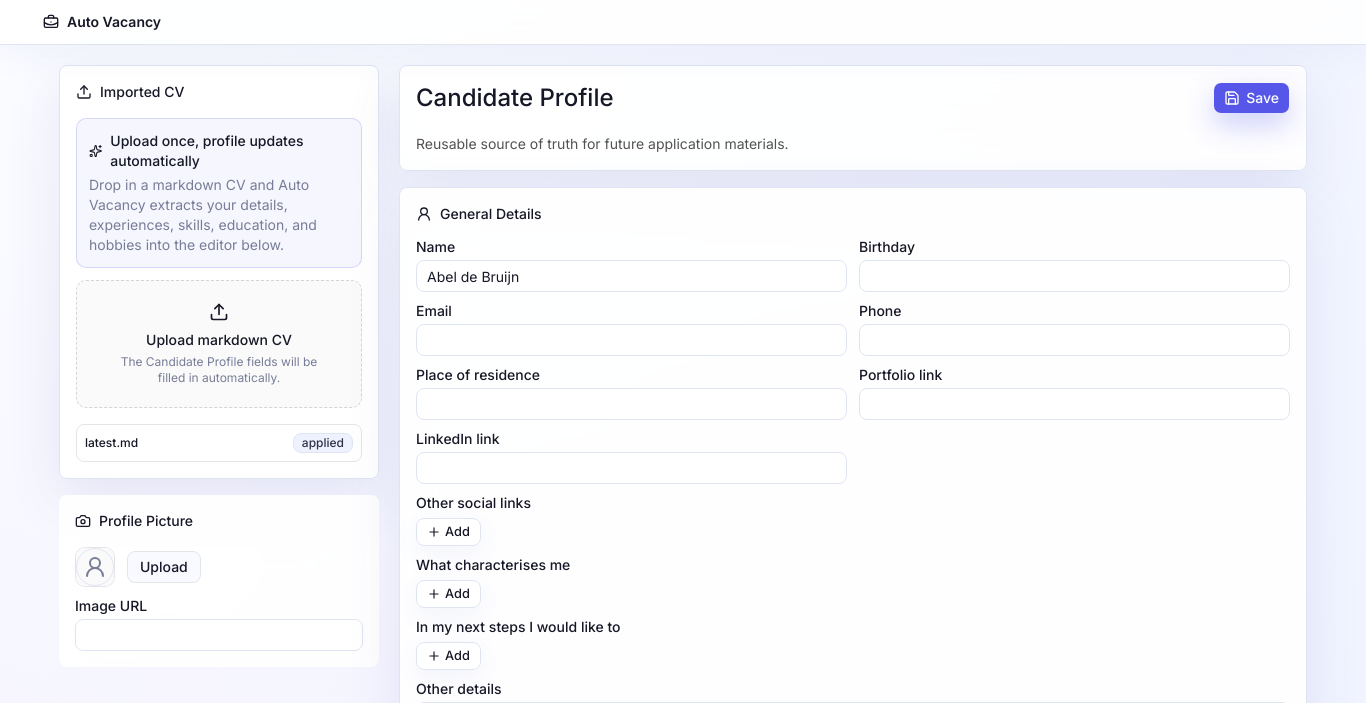
Test: ProfileApp › opens imported CV markdown in a dialog
Click the button named "latest.mdapplied" at (112, 442), box 76,424 -> 362,462
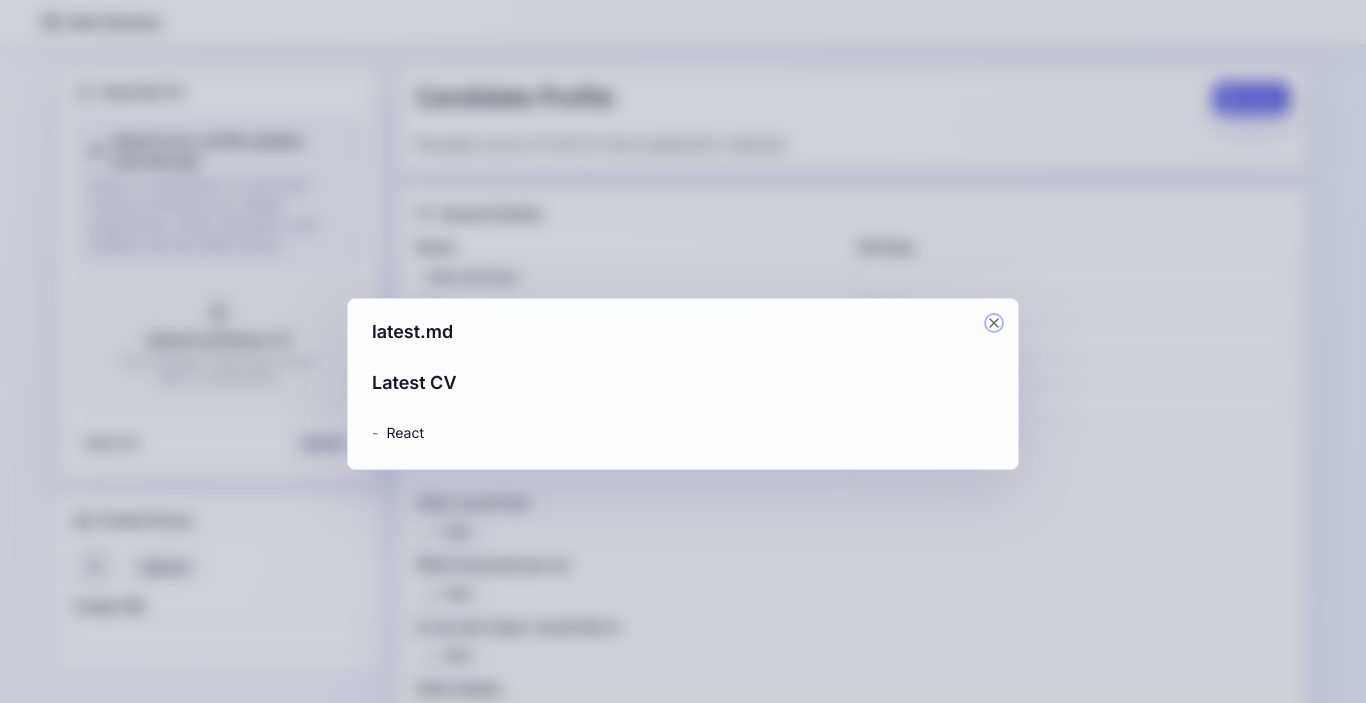
Now the heading "latest.md" is shown, box 372,321 -> 453,342
Now the heading "Latest CV" is shown, box 372,372 -> 456,393
Now the text "React" is shown, box 386,421 -> 424,445
